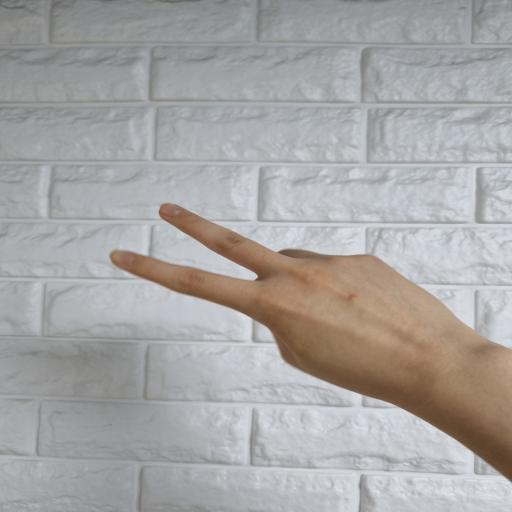Scissors: (108, 202, 512, 483)
